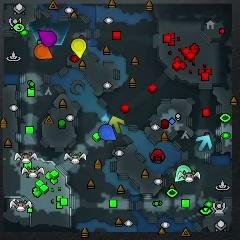p1: (99, 124, 117, 141)
p2: (175, 165, 191, 183)
p3: (38, 30, 57, 47)
p4: (71, 38, 87, 59)
p5: (34, 44, 53, 59)
x2: (109, 116, 125, 134)
x3: (196, 134, 212, 152)
